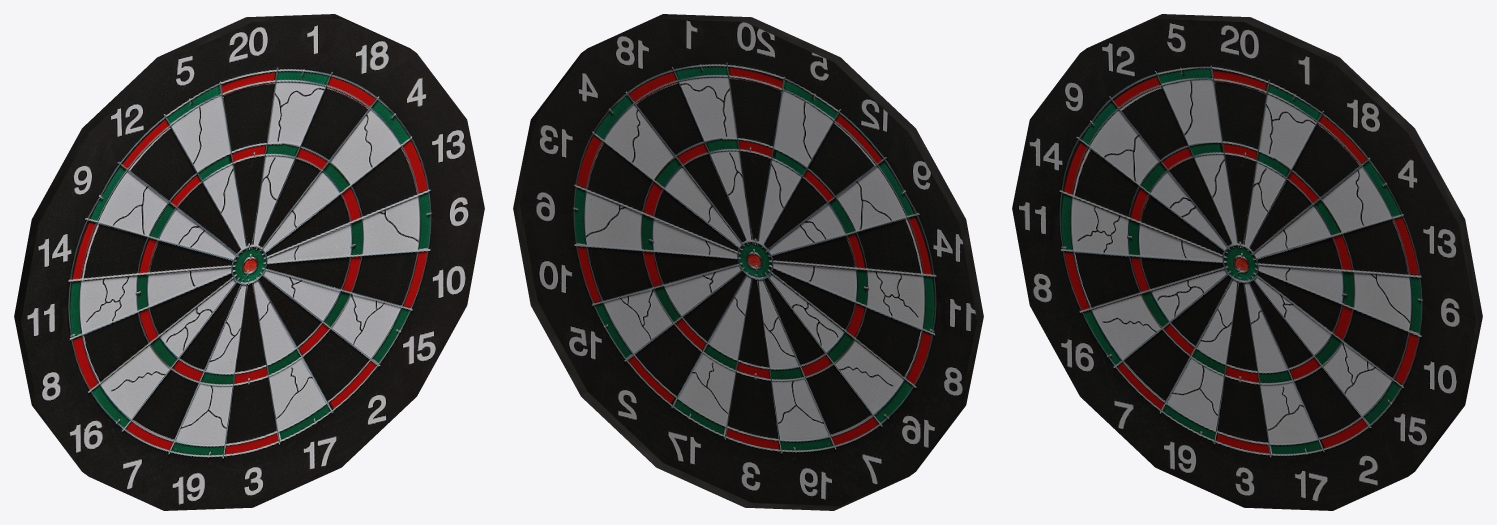
The model's file is darts_tablo_coll.FBX.
The picture shows the model from 3 angles, left to right: view 1: azimuth 30°, elevation 25°; view 2: azimuth 150°, elevation 25°; view 3: azimuth 330°, elevation 25°; orthographic projection.
Parts seen in each view (by area): view 1: darts_tablo_coll; view 2: darts_tablo_coll; view 3: darts_tablo_coll.
Part boxes in pixels (left/top/right/bottom): darts_tablo_coll: left=14, top=14, right=484, bottom=510; darts_tablo_coll: left=513, top=14, right=983, bottom=510; darts_tablo_coll: left=1012, top=14, right=1482, bottom=510.
Bounding box in the file's own units: 400 × 400 × 10.
Materials: 1 (1 with a texture image).
